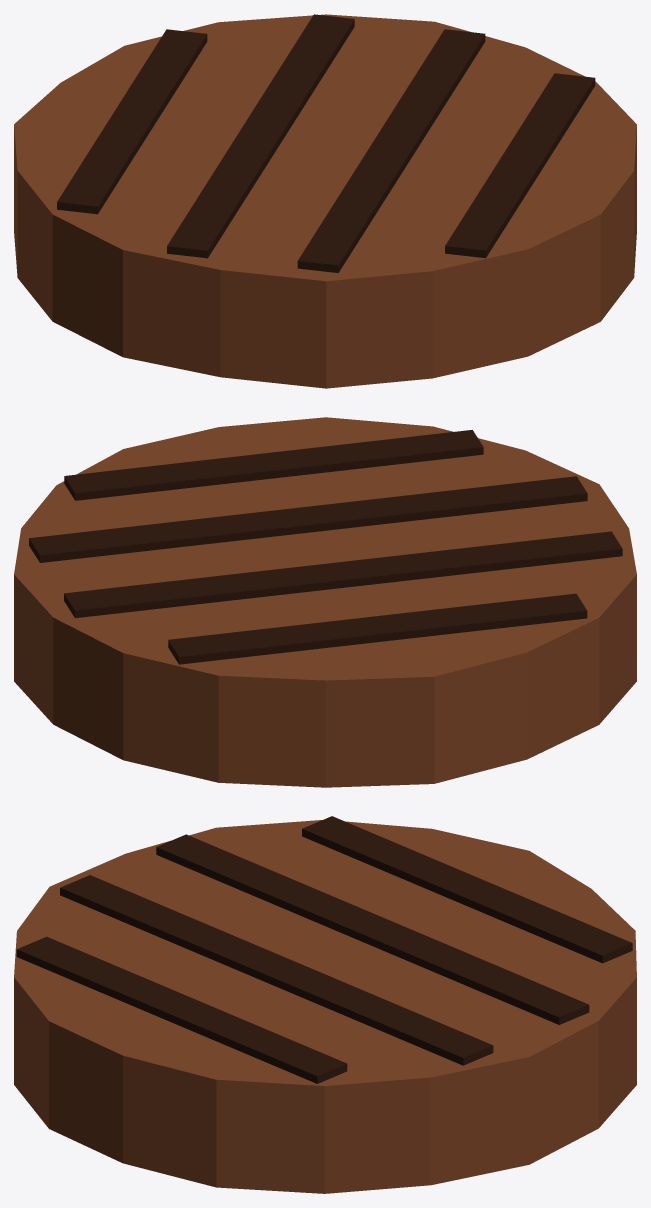
Rendered from patty_cooked.glb.
The picture shows the model from 3 angles, top to bottom: view 1: azimuth 30°, elevation 25°; view 2: azimuth 150°, elevation 25°; view 3: azimuth 270°, elevation 25°; orthographic projection.
Parts seen in each view (by area): view 1: PattyCooked; view 2: PattyCooked; view 3: PattyCooked.
Boxes of the visible parts, box(x1,y1,x2,y2) form: PattyCooked: box(14, 14, 636, 388); PattyCooked: box(14, 417, 636, 787); PattyCooked: box(14, 816, 636, 1193).
Size of the model in its own units: 2.97 by 0.6 by 2.93.
